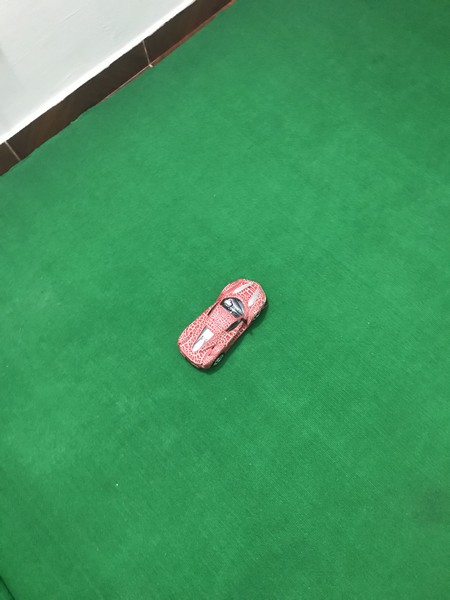RC: (176, 278, 269, 374)
